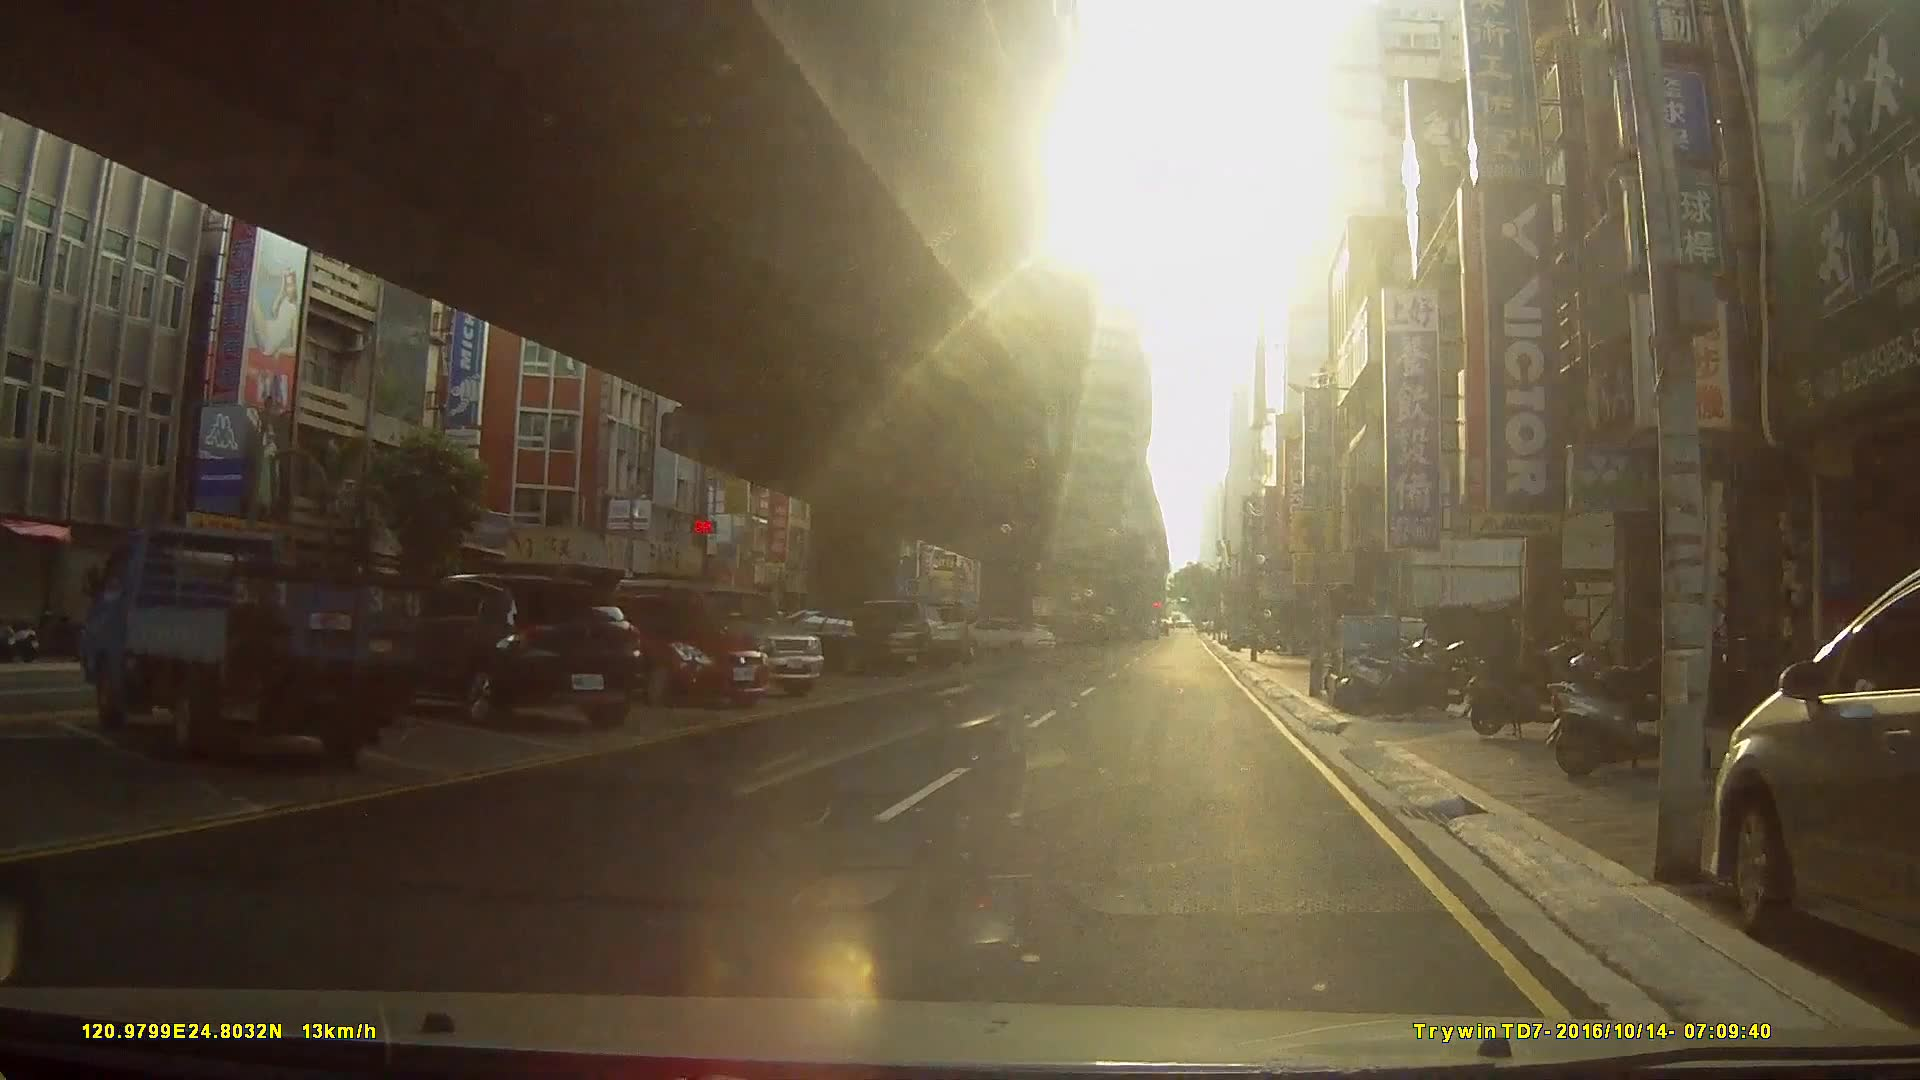vehicle: (74, 526, 434, 767), (1709, 564, 1920, 968), (382, 568, 642, 729), (608, 578, 823, 699), (574, 589, 771, 709), (754, 607, 920, 674), (833, 596, 972, 665), (964, 615, 1055, 654)
